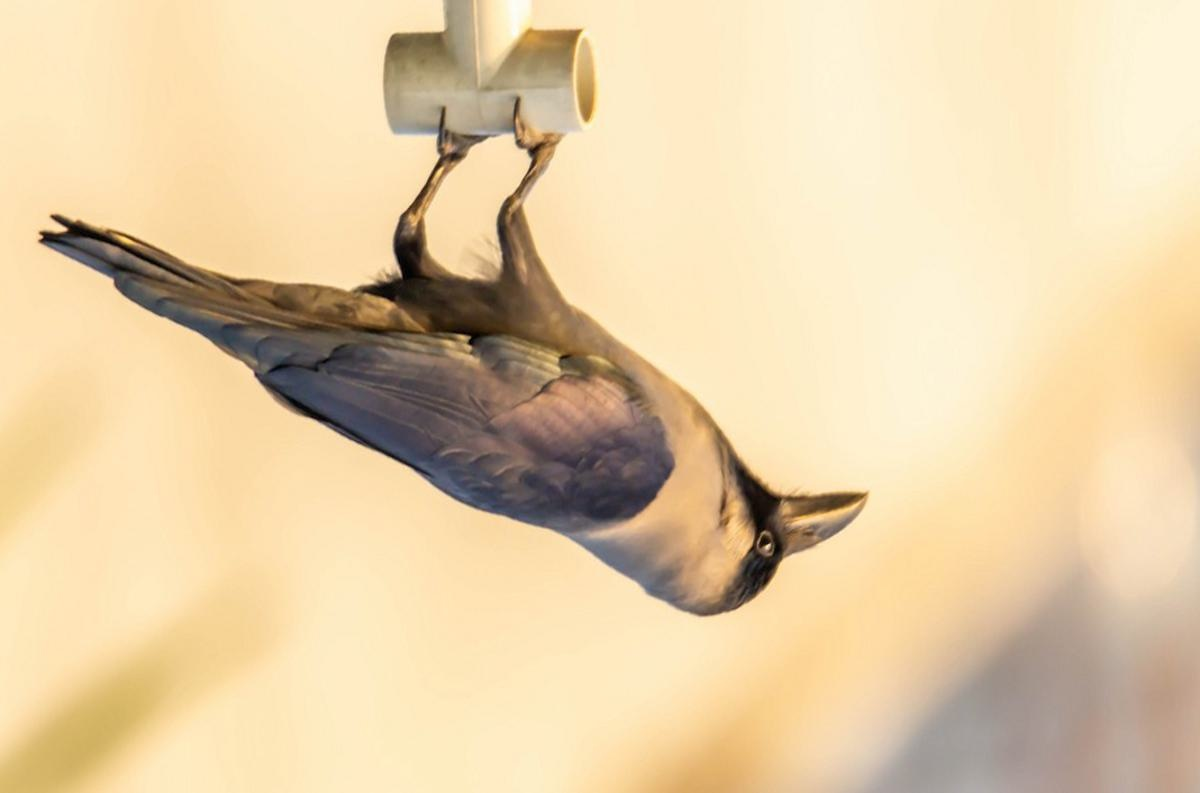crow: (68, 140, 877, 630)
